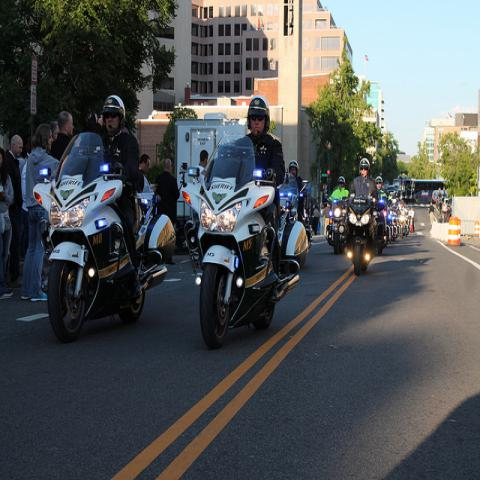bus: (402, 179, 448, 204)
motorcycle: (34, 133, 177, 336), (187, 134, 299, 342), (278, 172, 309, 268), (344, 196, 380, 278), (324, 197, 349, 254), (370, 202, 390, 254), (381, 206, 392, 239), (398, 208, 409, 238), (390, 213, 398, 243)
